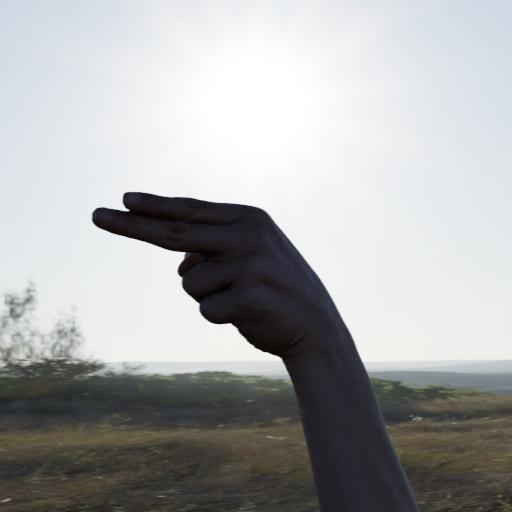H: (78, 179, 373, 380)
